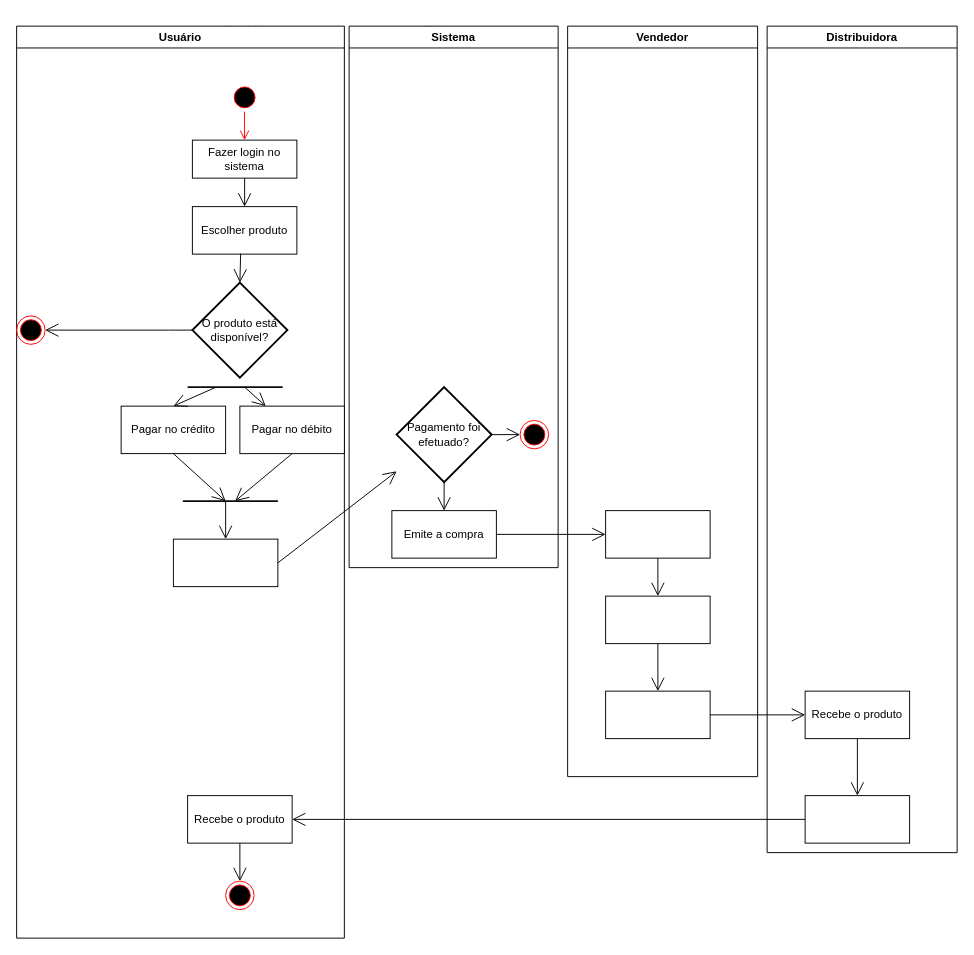
Some shapes in this 974 by 955 pixel diagram are drawn without their labels. Each missing label, with the centre of its shape:
Efetuar o pagamento do produto: point (225, 562)
Envia o produto ao comprador: point (857, 819)
Envia para a distribuidora: point (657, 714)
Prepara o produto: point (657, 619)
Recebe os dados da compra: point (657, 534)
